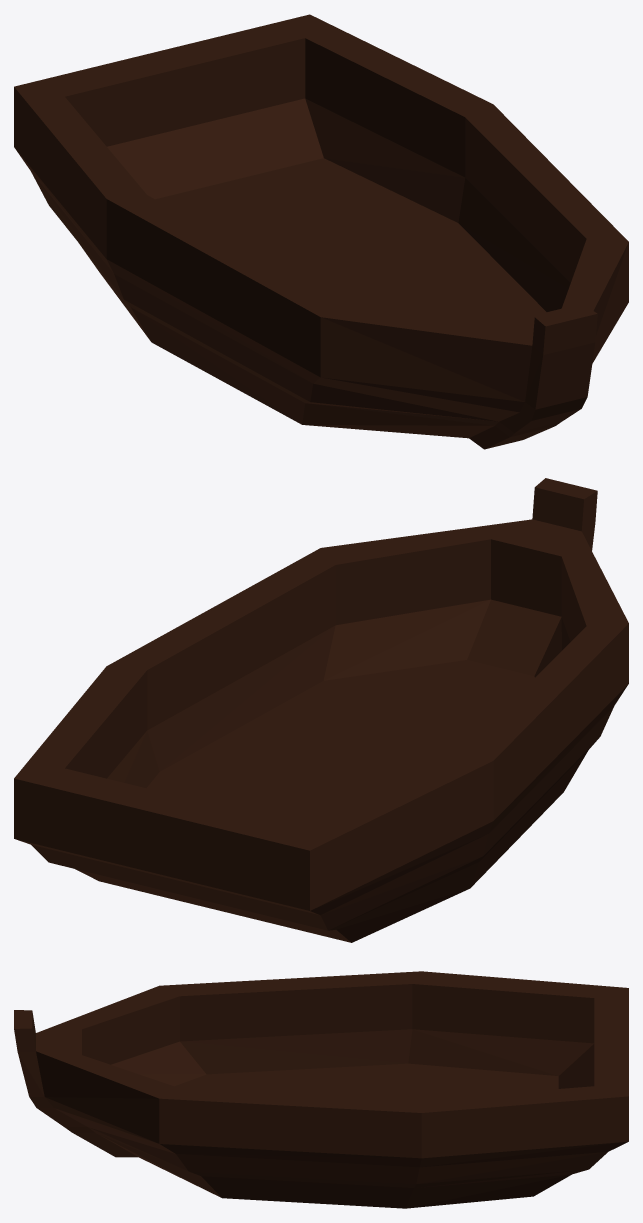
The model's file is boat.glb.
3 renders of one model, top to bottom at view 1: azimuth 30°, elevation 25°; view 2: azimuth 150°, elevation 25°; view 3: azimuth 270°, elevation 25°, orthographic. The views are drawn at different scales.
Parts seen in each view (by area): view 1: Boat_Cube; view 2: Boat_Cube; view 3: Boat_Cube.
Part boxes in pixels (<box>): Boat_Cube: <box>14,14,628,449</box>; Boat_Cube: <box>14,478,628,942</box>; Boat_Cube: <box>14,971,628,1208</box>.
Size of the model in its own units: 0.3645 by 0.1569 by 0.6684.
